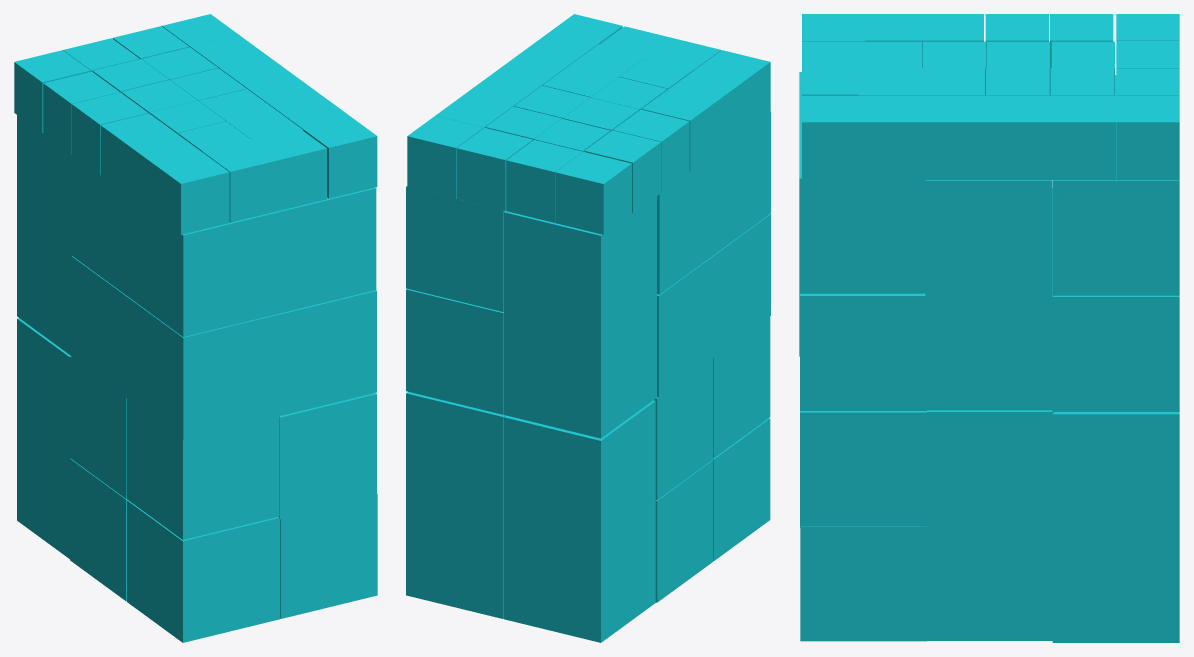
3 views of the same model, side by side, from view 1: azimuth 30°, elevation 25°; view 2: azimuth 150°, elevation 25°; view 3: azimuth 270°, elevation 25° (orthographic). The views are drawn at different scales.
Visible parts, largest first — view 1: 立方体.017, 立方体.011, 立方体.020, 立方体.006, 立方体.015, 立方体.018, 立方体.014, 立方体.009, 立方体.007, 立方体.008, 立方体.016, 立方体.019 (+28 smaller); view 2: 立方体.027, 立方体.029, 立方体.028, 立方体.026, 立方体.023, 立方体.024, 立方体.022, 立方体.025, 立方体.007, 立方体.008, 立方体.011, 立方体.016 (+28 smaller); view 3: 立方体.023, 立方体.022, 立方体.024, 立方体.014, 立方体.021, 立方体.009, 立方体.010, 立方体.025, 立方体.012, 立方体.018, 立方体.015, 立方体.013 (+24 smaller).
Part boxes in pixels (x1,y1,x2,y2): 立方体.017: (127,297,280,439); 立方体.011: (127,500,279,642); 立方体.020: (127,195,280,336); 立方体.006: (127,398,279,539); 立方体.015: (278,393,376,519); 立方体.018: (278,187,376,313); 立方体.014: (280,290,376,415); 立方体.009: (280,493,377,618); 立方体.007: (70,458,127,601); 立方体.008: (70,356,126,498); 立方体.016: (71,256,127,398); 立方体.019: (72,155,127,296); 立方体.027: (504,400,655,542); 立方体.029: (504,196,656,336); 立方体.028: (504,296,656,438); 立方体.026: (504,501,655,642); 立方体.023: (406,288,503,414); 立方体.024: (406,391,505,517); 立方体.022: (406,186,505,311); 立方体.025: (406,494,503,618); 立方体.007: (655,460,713,602); 立方体.008: (654,358,713,499); 立方体.011: (713,418,770,560); 立方体.016: (657,255,714,397); 立方体.023: (1052,295,1179,411); 立方体.022: (1052,127,1179,295); 立方体.024: (1052,412,1179,529); 立方体.014: (800,293,926,410); 立方体.021: (925,180,1052,295); 立方体.009: (800,526,927,641); 立方体.010: (926,242,1052,410); 立方体.025: (1052,528,1179,642); 立方体.012: (927,410,1053,526); 立方体.018: (799,125,925,293); 立方体.015: (800,411,926,527); 立方体.013: (927,526,1052,640).
Size of the model in its own units: 204 by 452 by 300.
